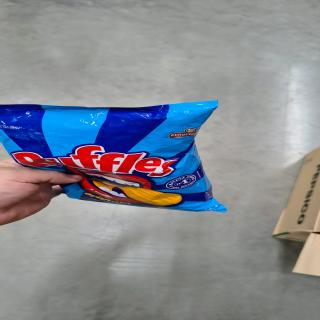food-box: (69, 94, 238, 214)
